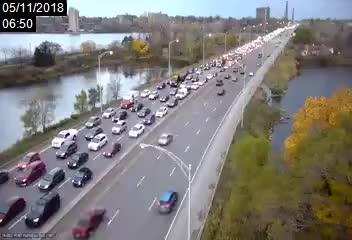congestion: (6, 117, 136, 227), (92, 77, 184, 129), (165, 59, 223, 90), (205, 48, 245, 66)
personal_car: (69, 205, 109, 238), (26, 192, 61, 225), (1, 189, 24, 228), (13, 161, 47, 185), (155, 187, 179, 214), (38, 167, 66, 189), (53, 128, 77, 149), (72, 167, 94, 186), (17, 150, 40, 168), (56, 139, 77, 157), (67, 151, 89, 167), (102, 141, 122, 158), (88, 133, 105, 148), (110, 120, 127, 134), (129, 123, 143, 139), (156, 132, 172, 146), (85, 114, 100, 128), (173, 87, 190, 99), (113, 111, 126, 125), (86, 127, 101, 139), (101, 105, 114, 118), (154, 106, 169, 117), (166, 96, 179, 107), (143, 114, 156, 124), (168, 86, 179, 96), (148, 90, 159, 100), (130, 101, 140, 112), (214, 87, 226, 96), (190, 81, 199, 92), (179, 80, 190, 88), (138, 89, 149, 97), (138, 107, 147, 116), (197, 77, 207, 85), (215, 77, 223, 87), (191, 73, 199, 82), (160, 94, 169, 102), (157, 81, 165, 89), (184, 73, 192, 80)
truck: (169, 70, 190, 87), (120, 91, 138, 109)
